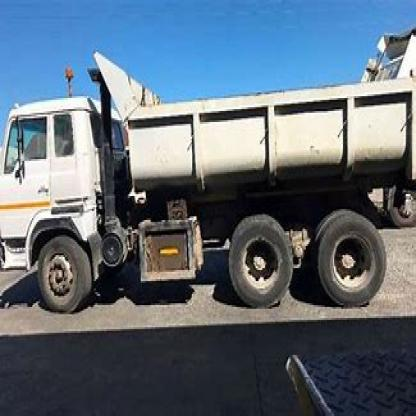dump_truck: (3, 46, 414, 320)
